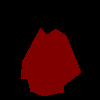abbigliamento_uomo: (20, 27, 81, 96)
